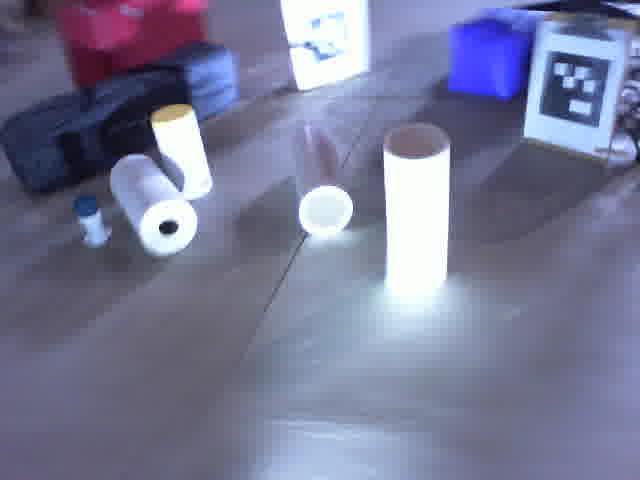coral: (380, 123, 452, 296), (285, 124, 357, 237)
